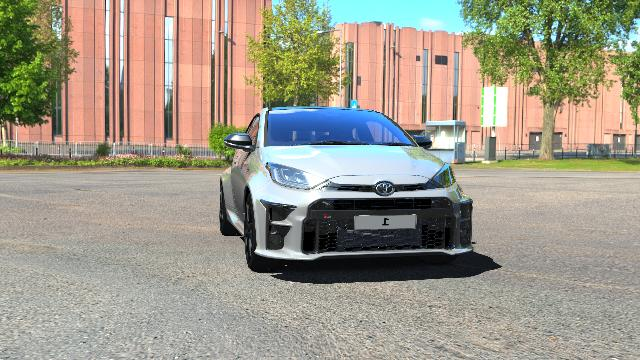License Plate: (353, 214, 417, 231)
